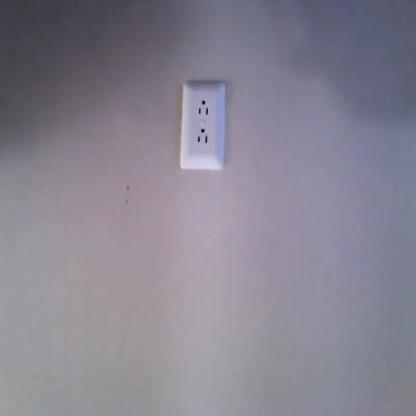OUTLET: (180, 80, 226, 170)
